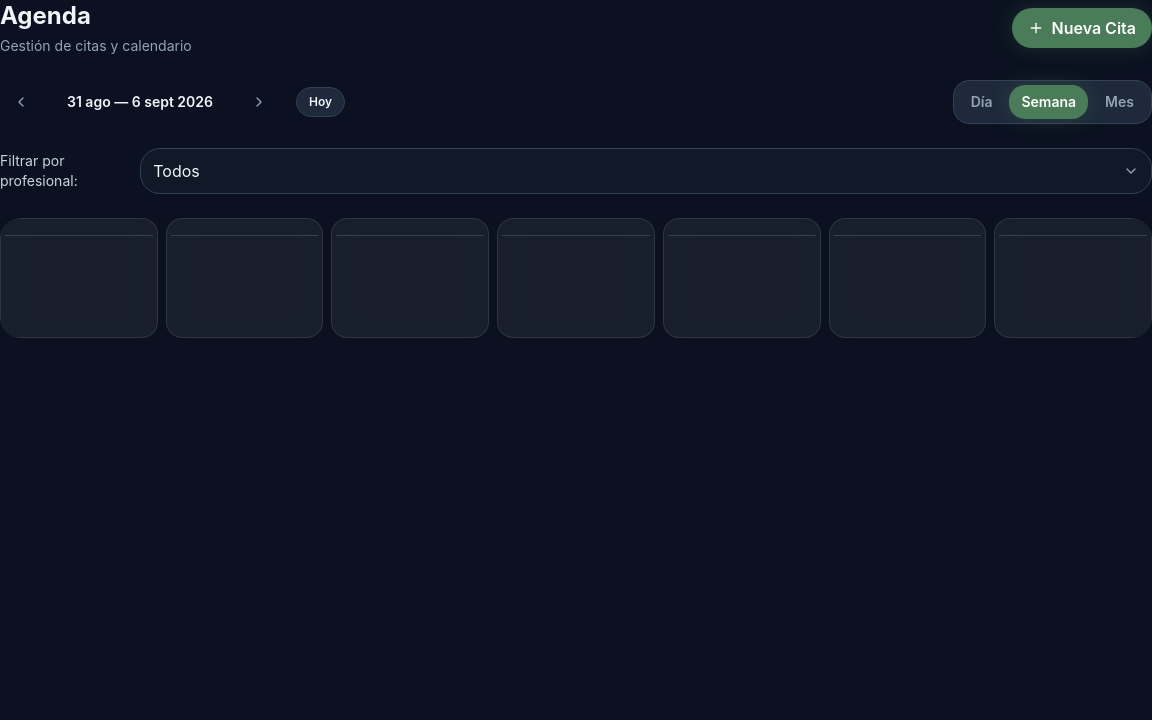
Test: AppointmentsPage › opens form dialog when clicking add
Click the button "Nueva Cita": (1082, 28) [1012,8,1151,48]
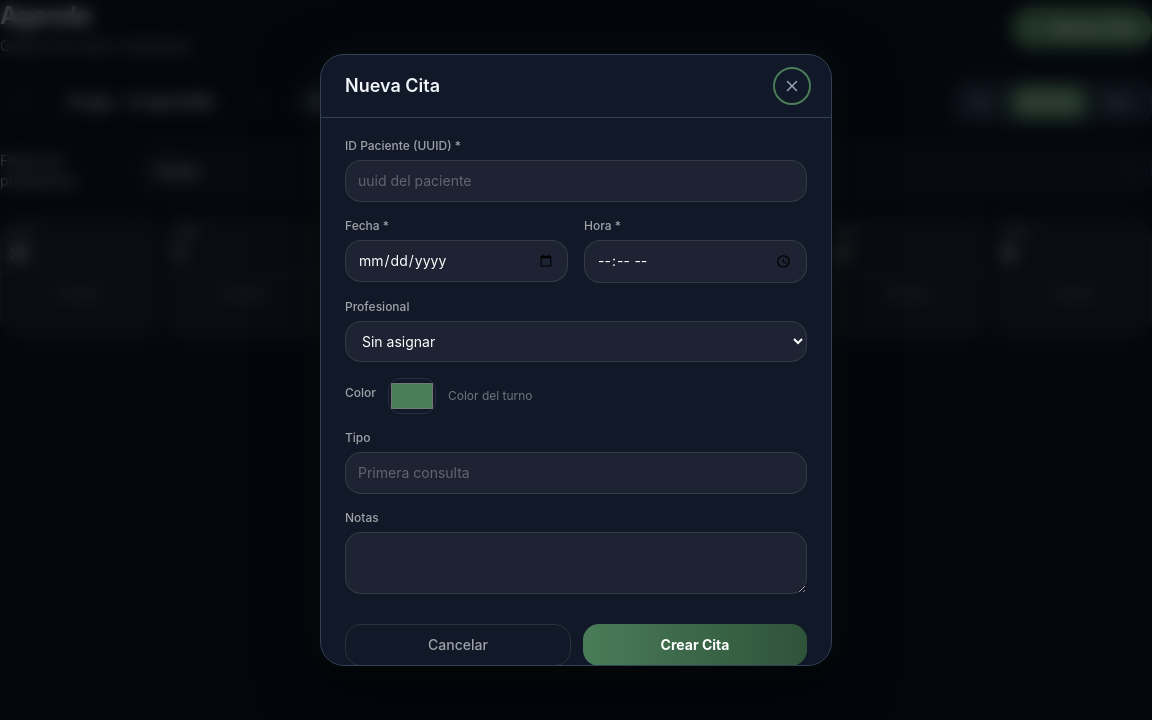
Now the heading "Nueva Cita" is shown, box [345,72,440,100]
